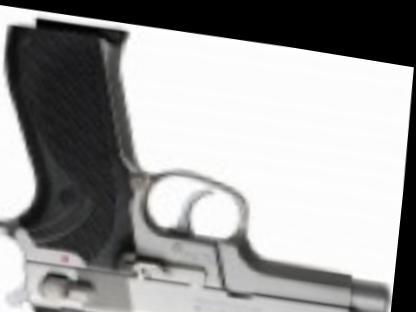pistol: (0, 11, 412, 311)
